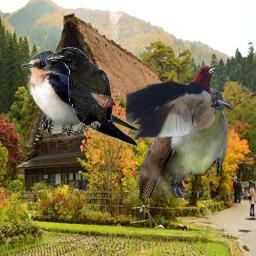Crow: (45, 47, 113, 135)
Cuckoo: (138, 88, 234, 198)
Swallow: (21, 48, 143, 150)
Woodpecker: (126, 62, 227, 140)
